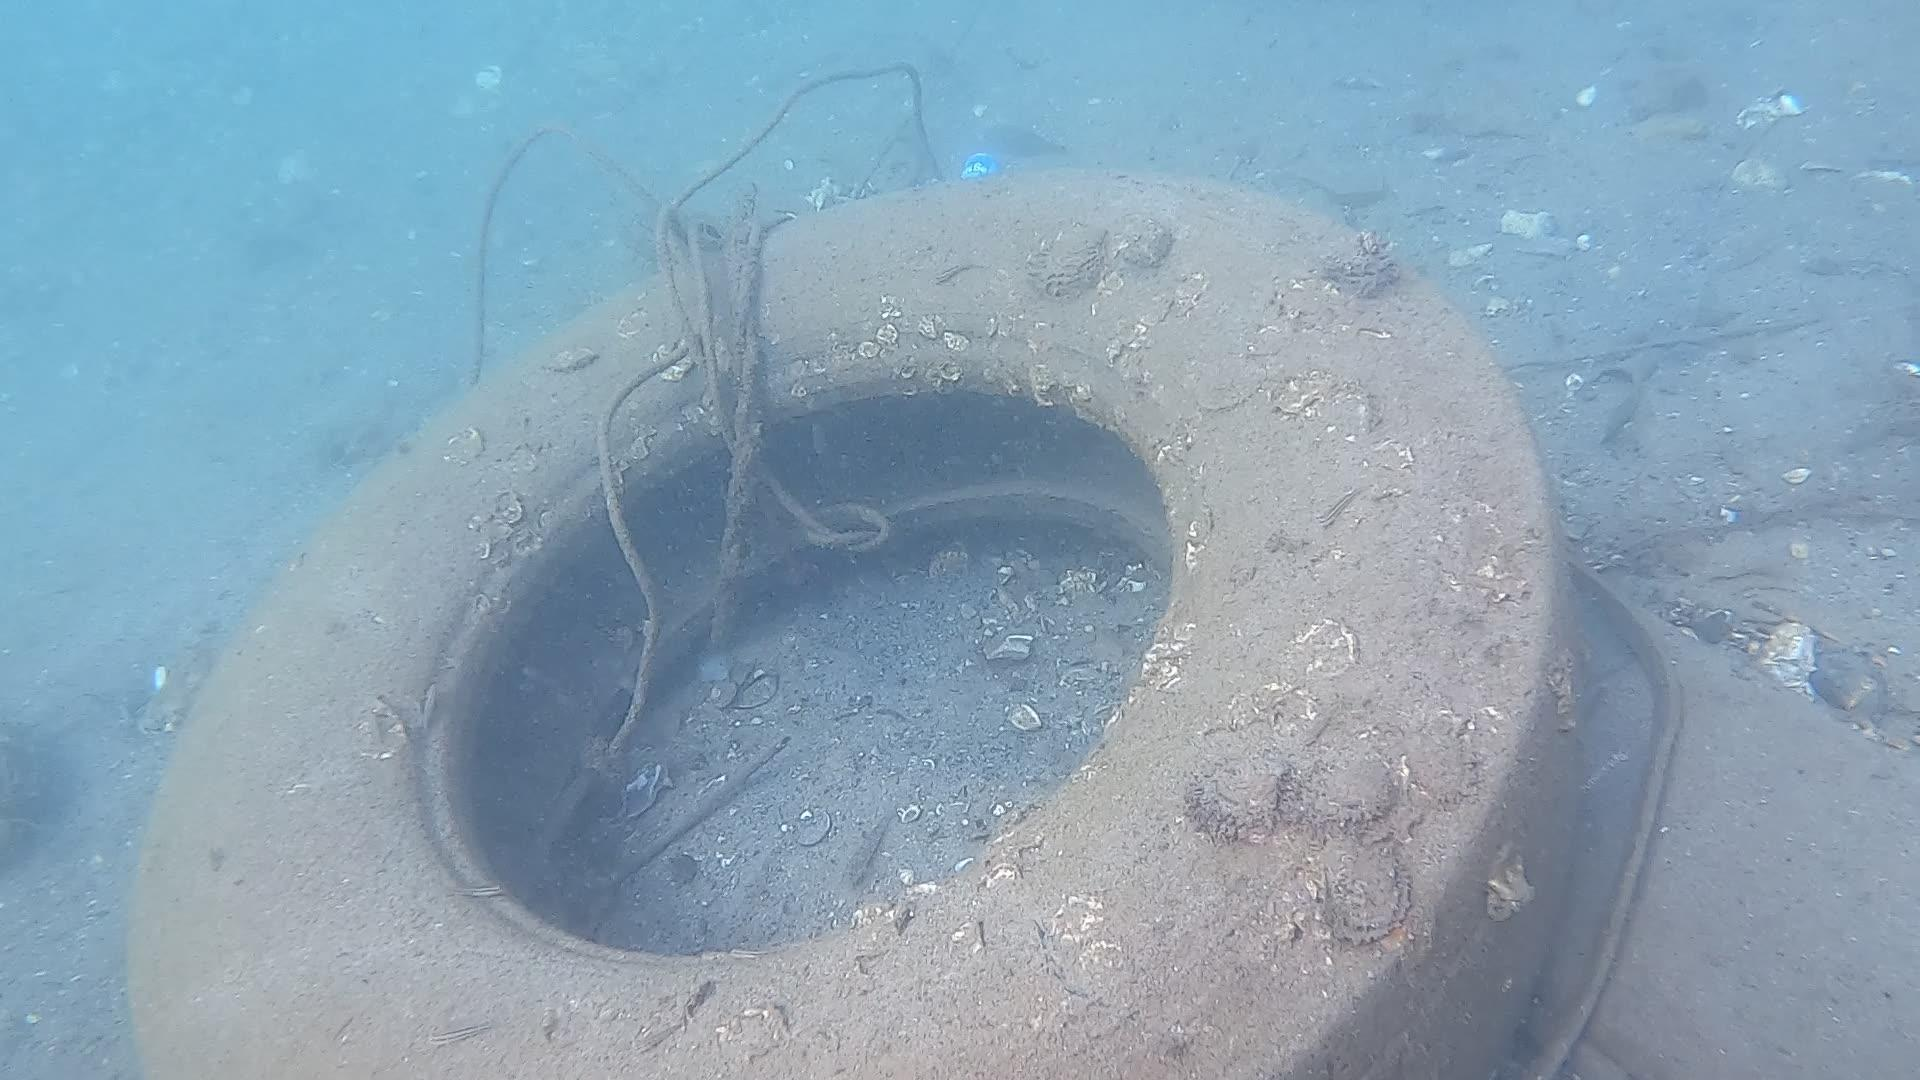bundle of ropes: (593, 62, 943, 749)
rope: (465, 125, 659, 388)
tire: (117, 158, 1582, 1080)
